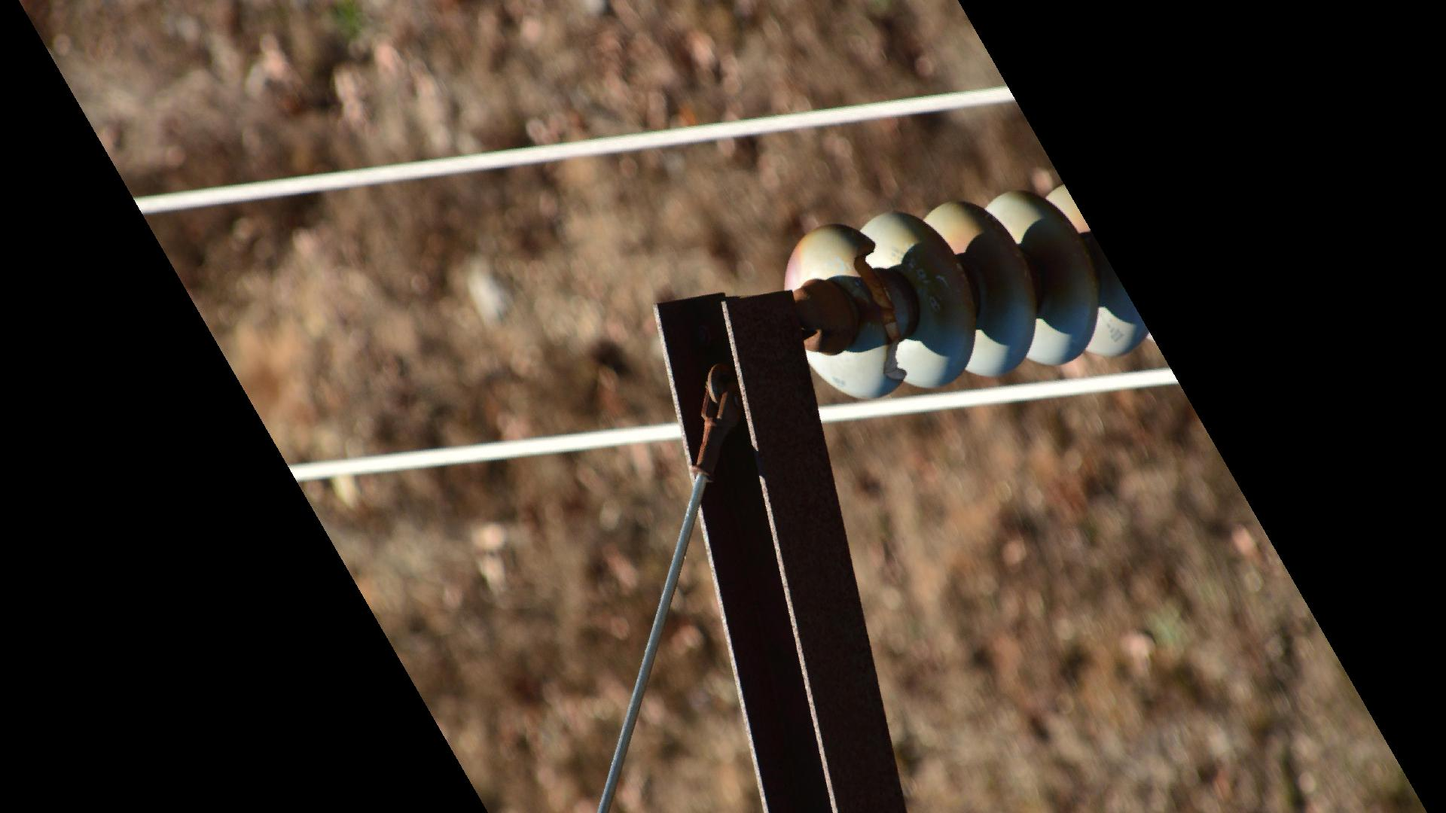insulator: (783, 175, 1154, 402)
insulator_breakage: (848, 233, 915, 388)
